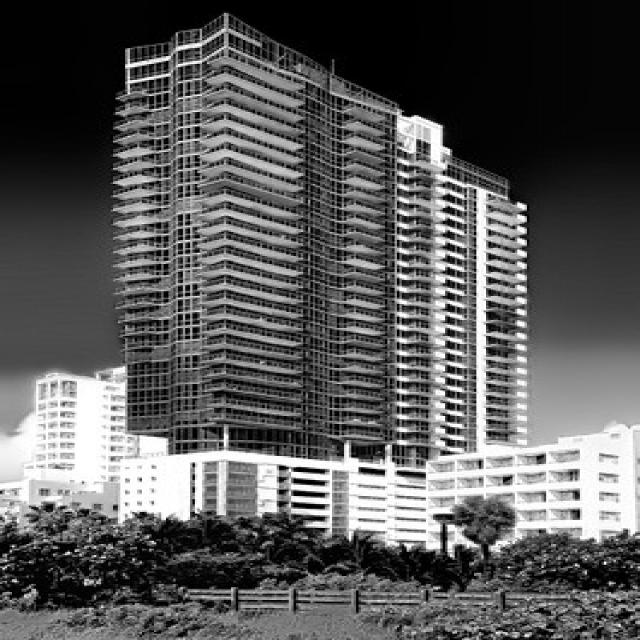Normal_building: (112, 18, 403, 456)
